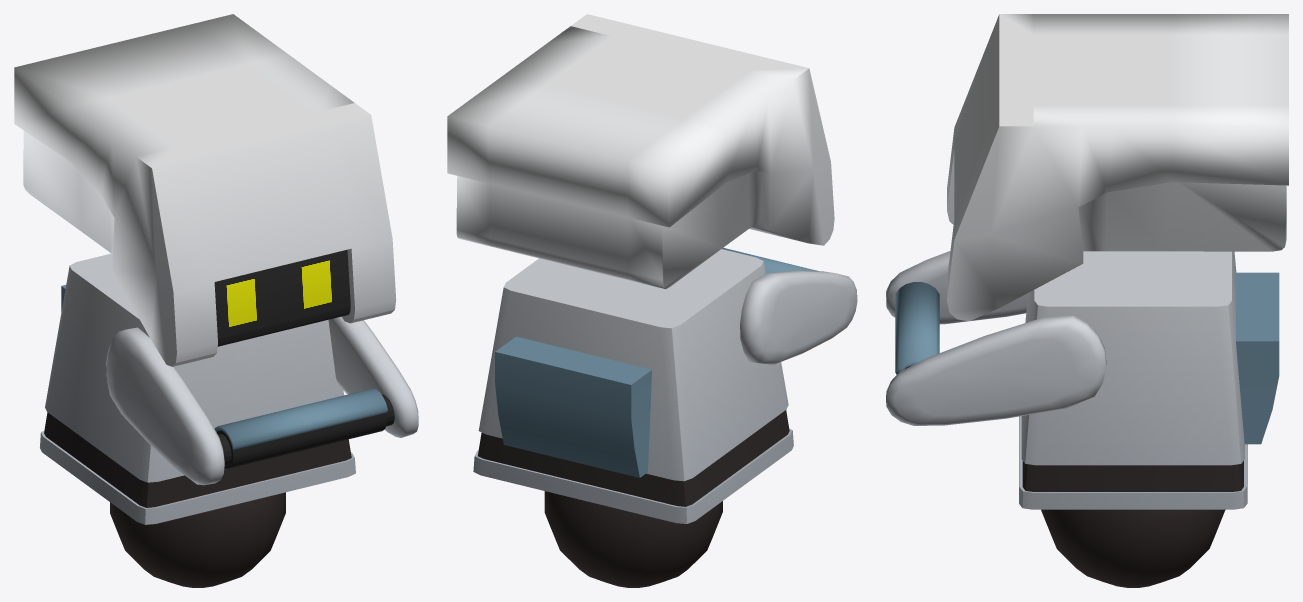
Rendered from low_poly_mo_wall-e.glb.
3 renders of one model, left to right at view 1: azimuth 30°, elevation 25°; view 2: azimuth 150°, elevation 25°; view 3: azimuth 270°, elevation 25°, orthographic. The views are drawn at different scales.
Parts seen in each view (by area): view 1: Mo; view 2: Mo; view 3: Mo.
Part boxes in pixels (x1=…): Mo: x1=14, y1=14, x2=418, y2=587; Mo: x1=447, y1=14, x2=857, y2=587; Mo: x1=886, y1=14, x2=1288, y2=587.
Size of the model in its own units: 72.13 by 150 by 107.
Materials: 1 (1 with a texture image).
